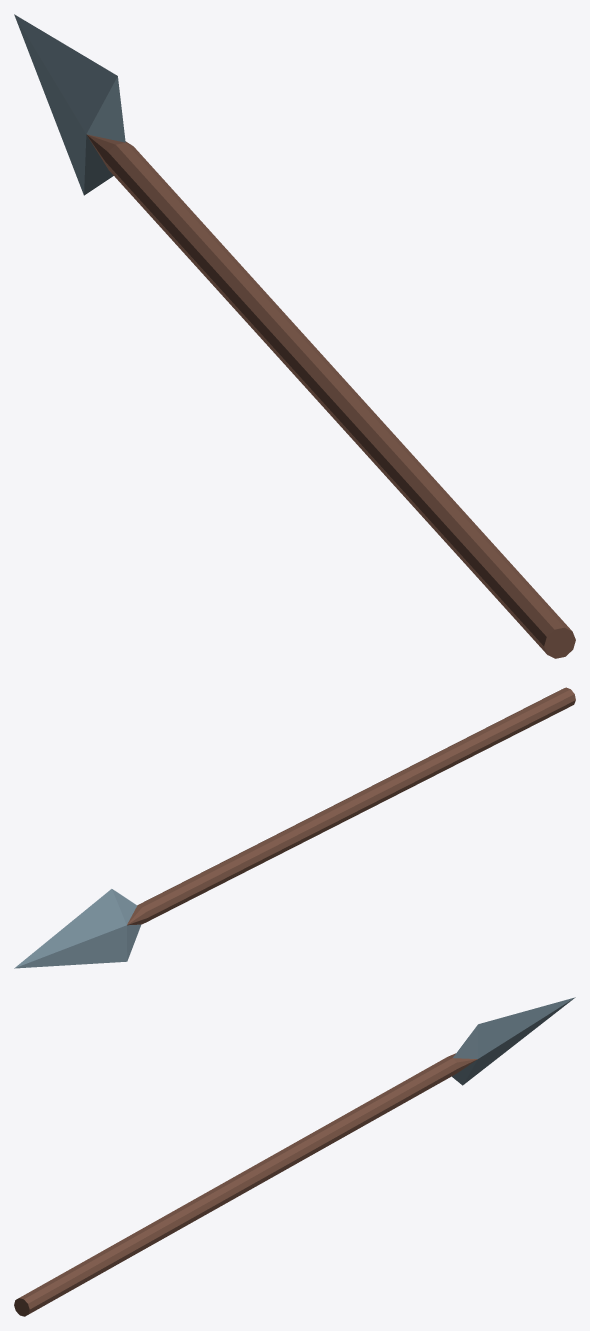
File: spear-by-christopher-johnson-av8gFNWsPMT.glb
3 views of the same model, one above another, from view 1: azimuth 30°, elevation 25°; view 2: azimuth 150°, elevation 25°; view 3: azimuth 330°, elevation 25° (orthographic). The views are drawn at different scales.
Visible parts, largest first — view 1: group882368150; view 2: group882368150; view 3: group882368150.
Boxes of the visible parts, x1,y1,x2,y2 form: group882368150: (14,14,575,658); group882368150: (14,687,575,968); group882368150: (14,997,575,1316).
Size of the model in its own units: 0.1307 by 0.0666 by 0.7846.
